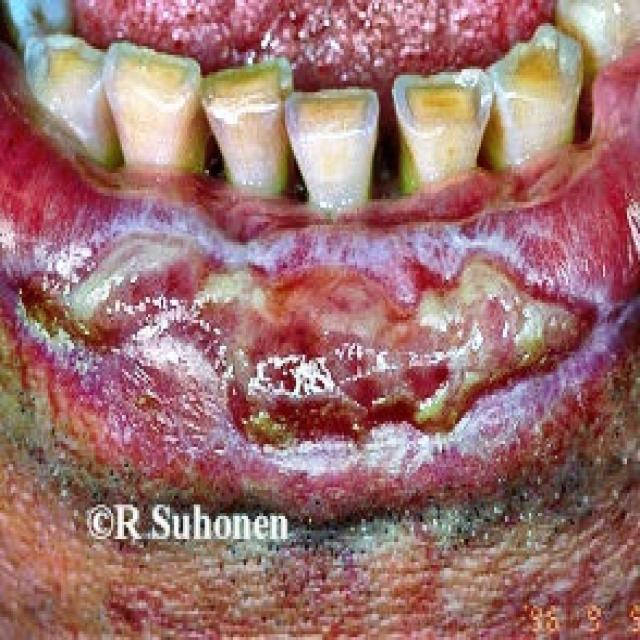Psoriasis-pictures-Lichen-Planus: (27, 25, 619, 499)
